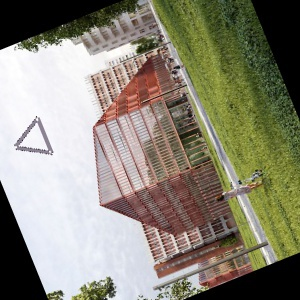triangle: (12, 112, 57, 157)
